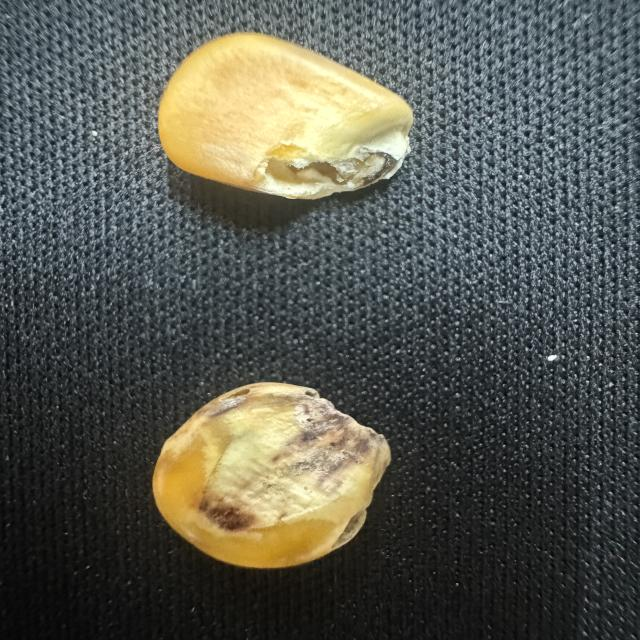Bad-Seed: (148, 375, 396, 573), (153, 29, 424, 201)
